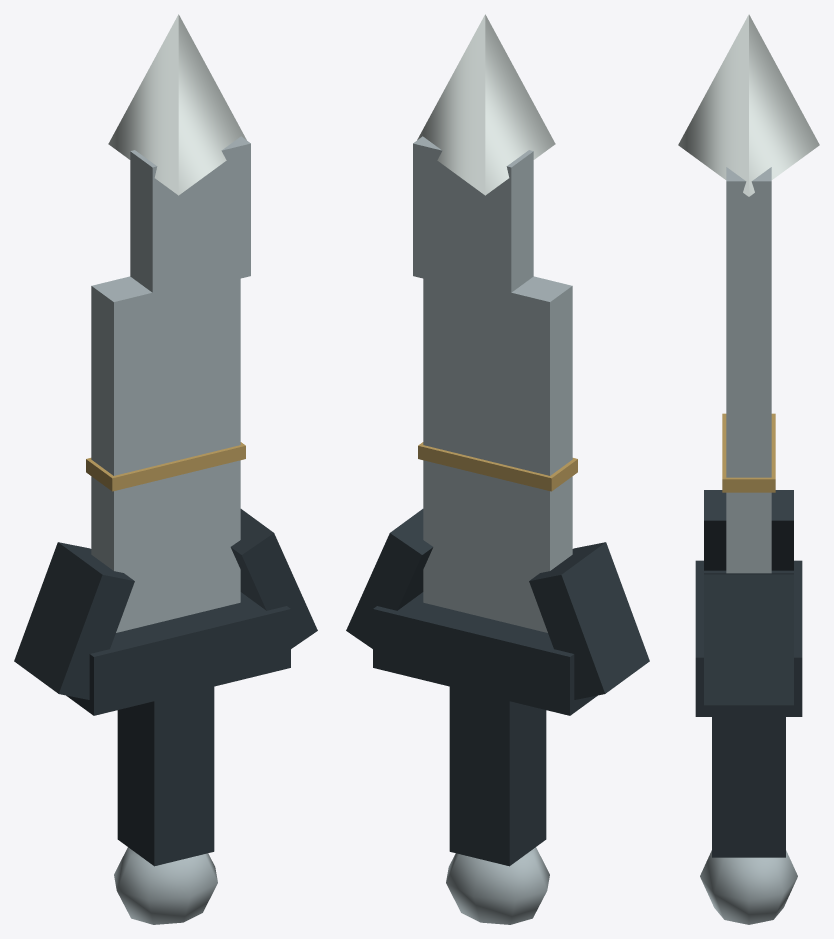
Rendered from fixed-fireblade-lod1.glb.
The picture shows the model from 3 angles, left to right: view 1: azimuth 30°, elevation 25°; view 2: azimuth 150°, elevation 25°; view 3: azimuth 270°, elevation 25°; orthographic projection.
Visible parts, largest first — view 1: piece_whole; view 2: piece_whole; view 3: piece_whole.
Part boxes in pixels (bbox=[...]): piece_whole: bbox=[14, 14, 317, 924]; piece_whole: bbox=[346, 14, 649, 924]; piece_whole: bbox=[678, 14, 819, 924].
Size of the model in its own units: 0.3684 by 1.23 by 0.1732.
